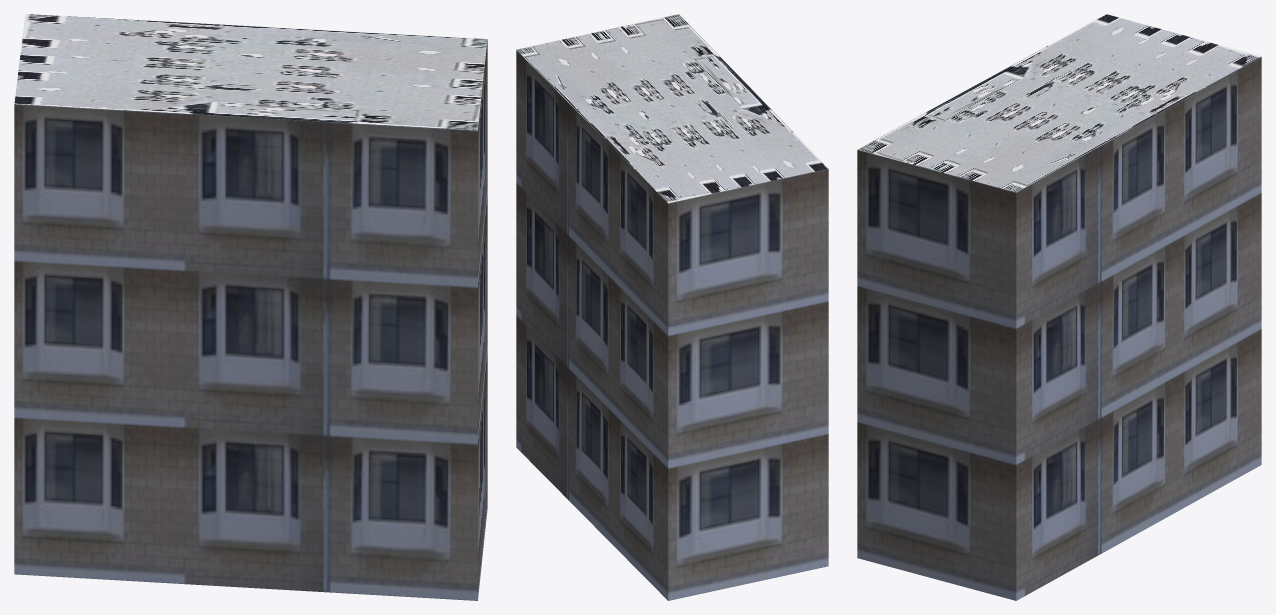
Rendered from ResTex__4974.fbx.
3 renders of one model, left to right at view 1: azimuth 30°, elevation 25°; view 2: azimuth 150°, elevation 25°; view 3: azimuth 270°, elevation 25°, orthographic. The views are drawn at different scales.
Visible parts, largest first — view 1: CityEngineMaterial_3_m, CityEngineMaterial_m; view 2: CityEngineMaterial_3_m, CityEngineMaterial_m; view 3: CityEngineMaterial_3_m, CityEngineMaterial_m.
Boxes of the visible parts, box(x1,y1,x2,y2) form: CityEngineMaterial_3_m: box(14, 39, 487, 600); CityEngineMaterial_m: box(14, 14, 487, 130); CityEngineMaterial_3_m: box(516, 50, 828, 600); CityEngineMaterial_m: box(516, 14, 828, 203); CityEngineMaterial_3_m: box(857, 56, 1261, 600); CityEngineMaterial_m: box(858, 14, 1260, 192).
Bounding box in the file's own units: 8.44 × 9 × 8.07.
Materials: 2 (2 with a texture image).
